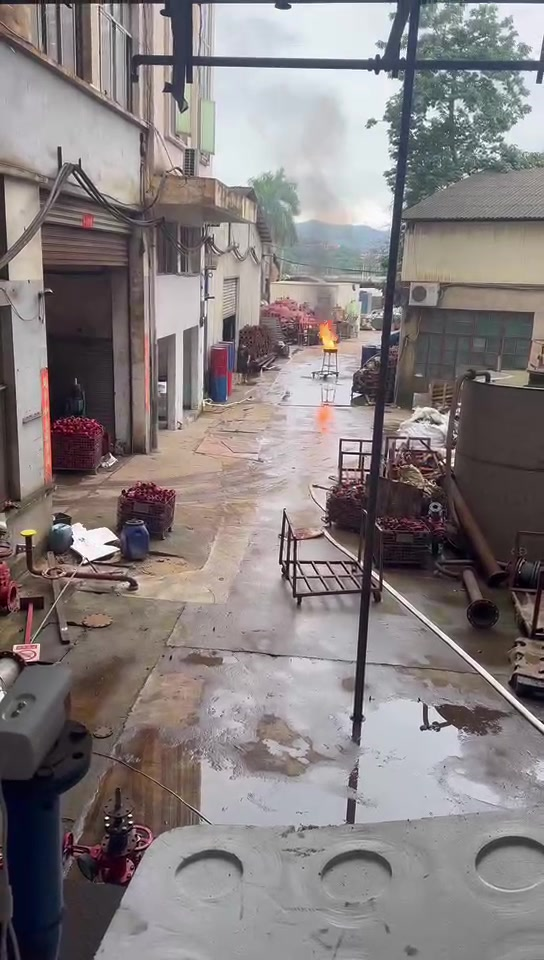fire: (318, 319, 338, 348)
